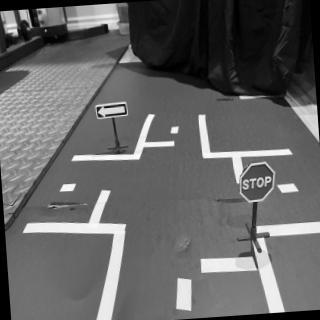sign_oneway_left: (96, 103, 129, 120)
sign_stop: (238, 162, 278, 204)
